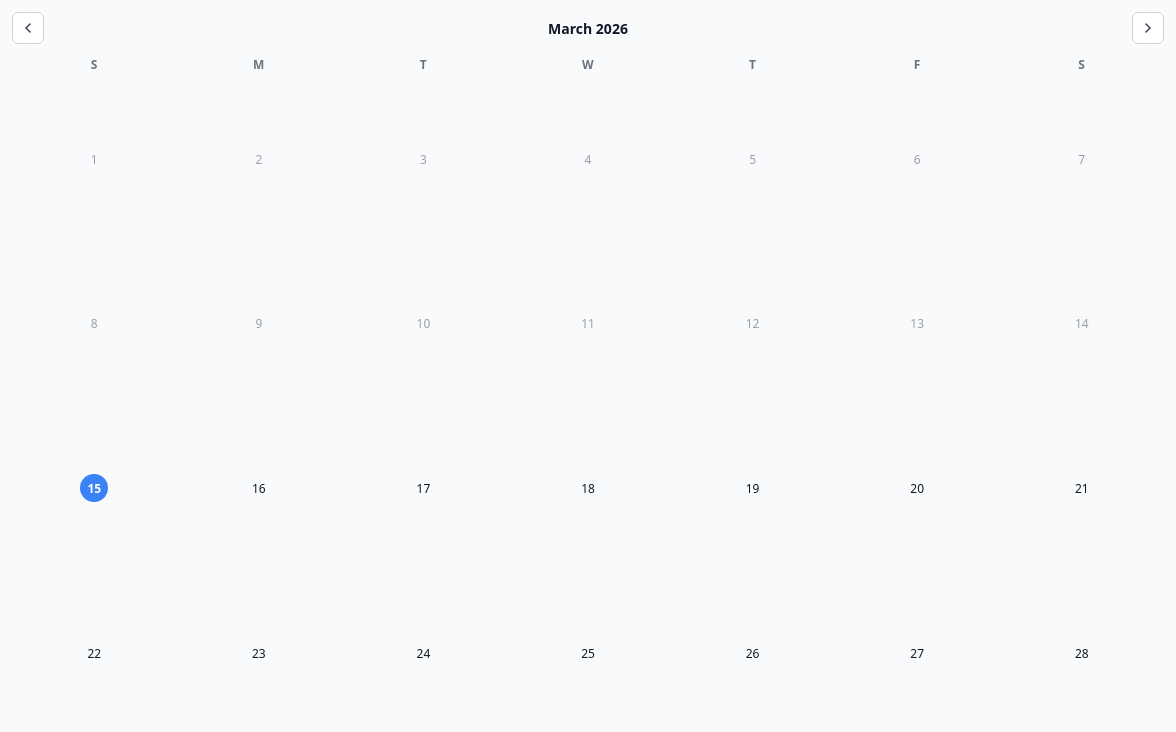
Test: DateRangePicker › navigation › clicking previous month button shows previous month
This screenshot has width=1176, height=732.
What coordinates should you click on to do the following:
click the button named "Previous month"
I would click on:
 (28, 28)
Its box is 12,12 -> 44,44.
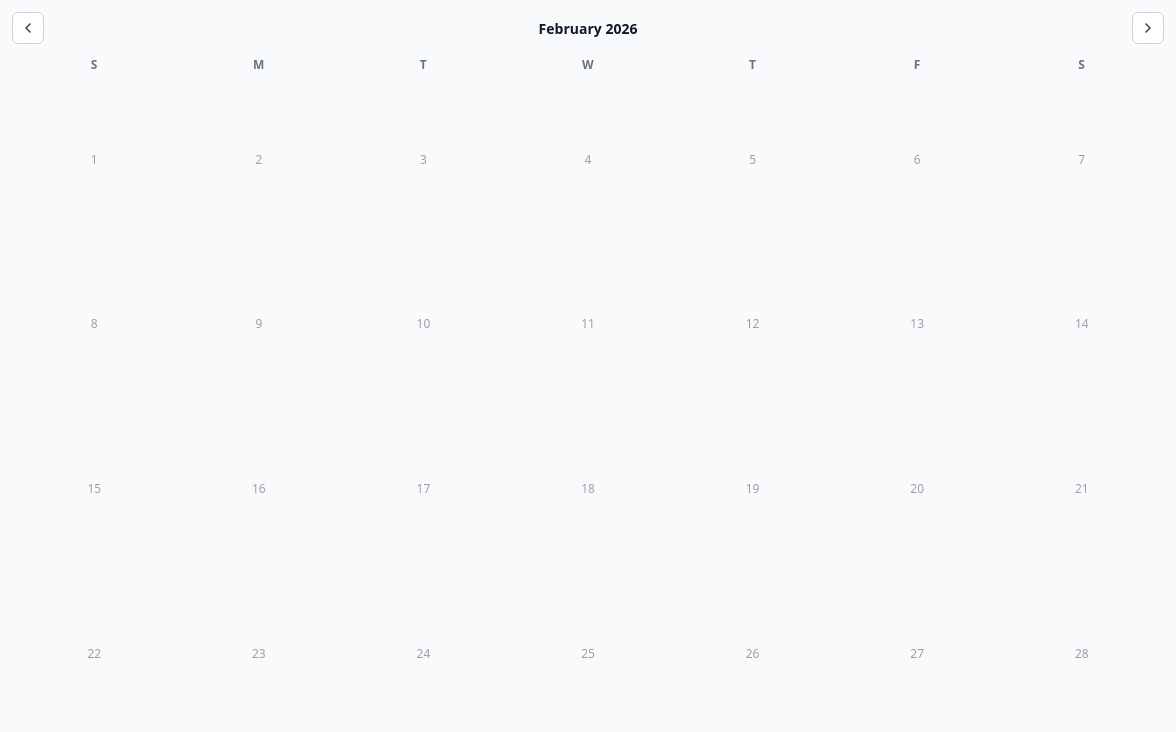
Now the text with class "monthLabel" shows "February", box 539,18 -> 602,38
